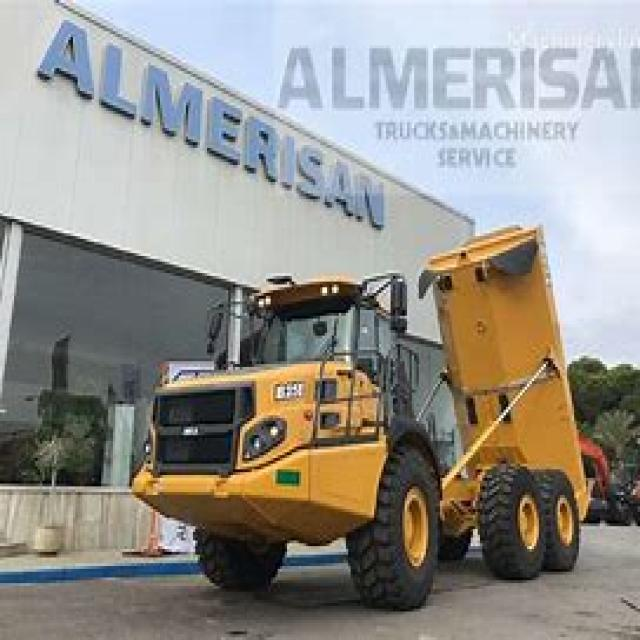dump_truck: (113, 185, 607, 600)
